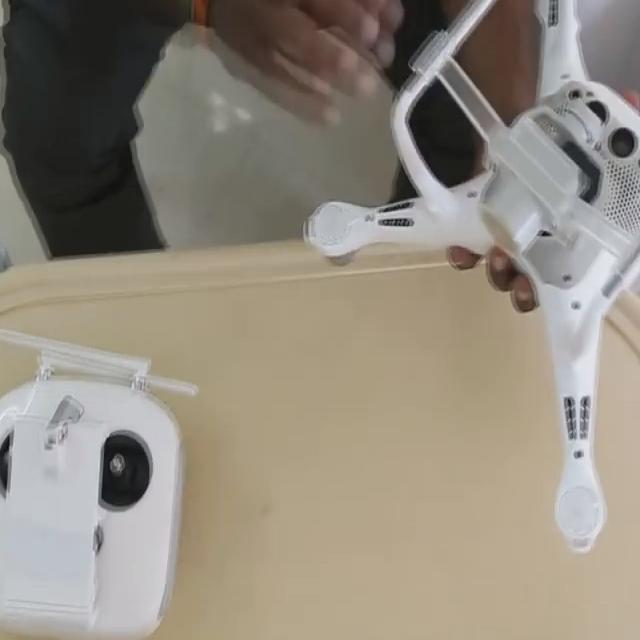drone: (281, 0, 640, 554)
